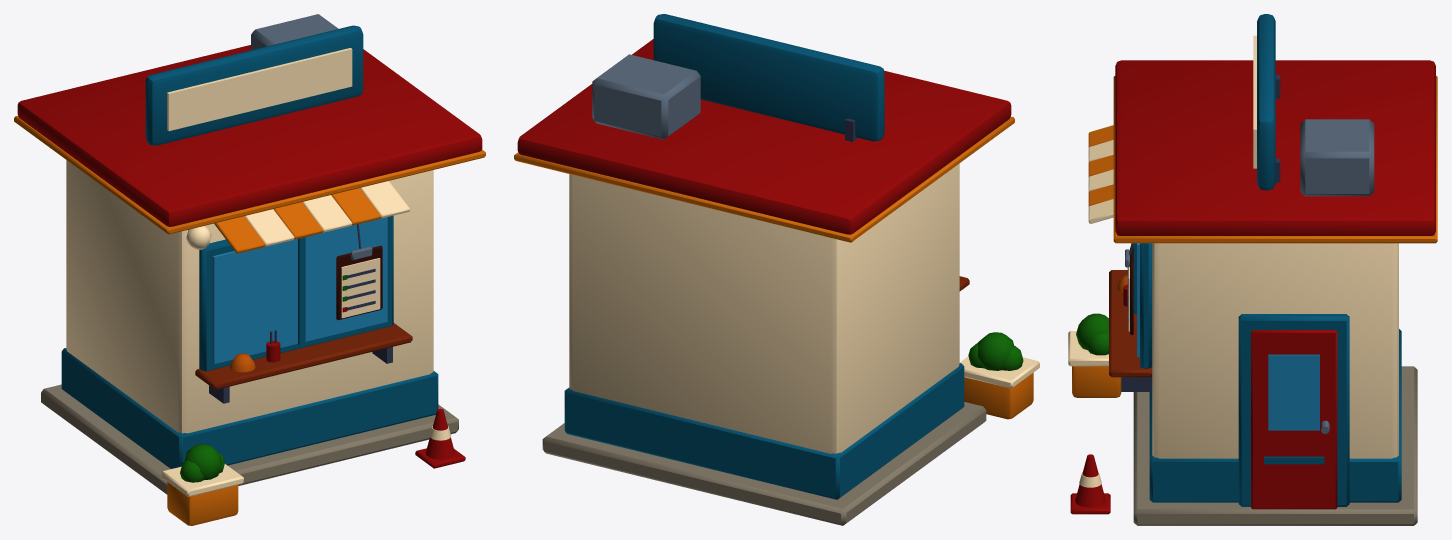
The model's file is DepotOffice.obj.
The picture shows the model from 3 angles, left to right: view 1: azimuth 30°, elevation 25°; view 2: azimuth 150°, elevation 25°; view 3: azimuth 270°, elevation 25°; orthographic projection. The views are drawn at different scales.
Parts seen in each view (by area): view 1: DepotOffice; view 2: DepotOffice; view 3: DepotOffice.
Boxes of the visible parts, x1,y1,x2,y2 form: DepotOffice: (14, 14, 485, 525); DepotOffice: (514, 14, 1039, 525); DepotOffice: (1068, 14, 1437, 525).
Size of the model in its own units: 6.28 by 6.95 by 5.99.
